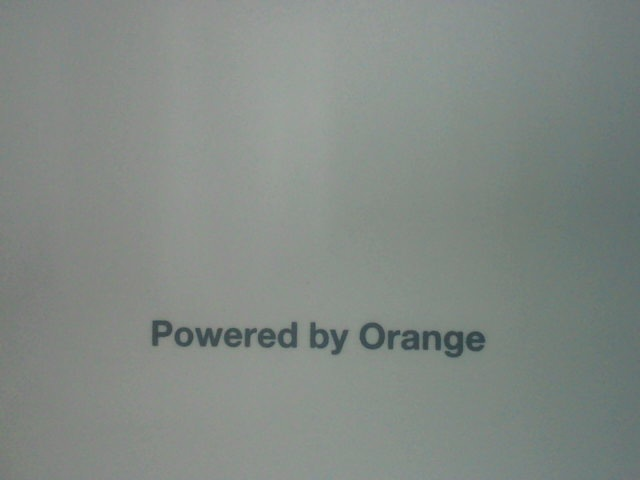AS_PowerByOrange: (147, 318, 496, 371)
